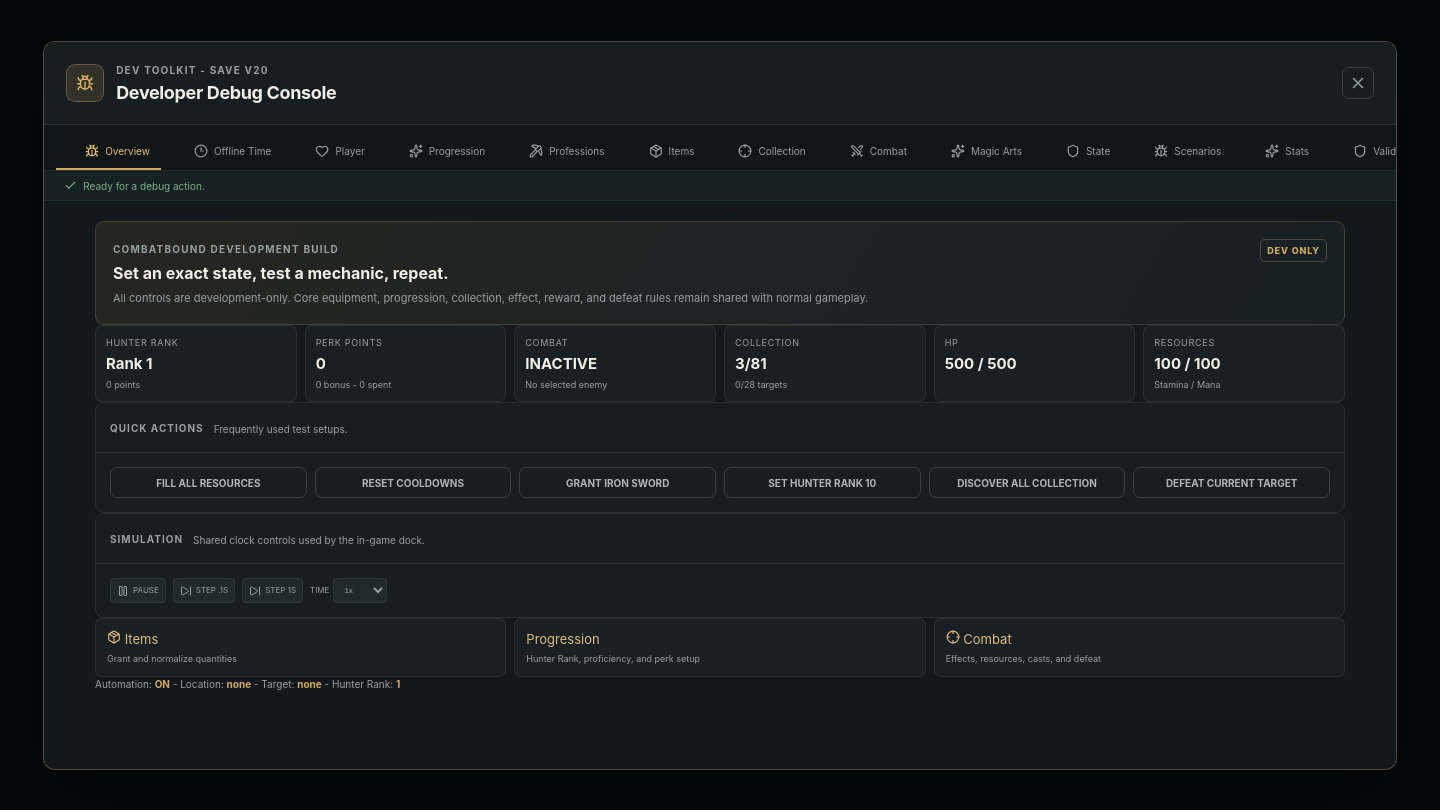
Test: debug progression toolkit › shows Hunter Rank, independent perk points, and direct Proficiency controls
Click the button "Progression": (438, 152) [380,133,496,170]
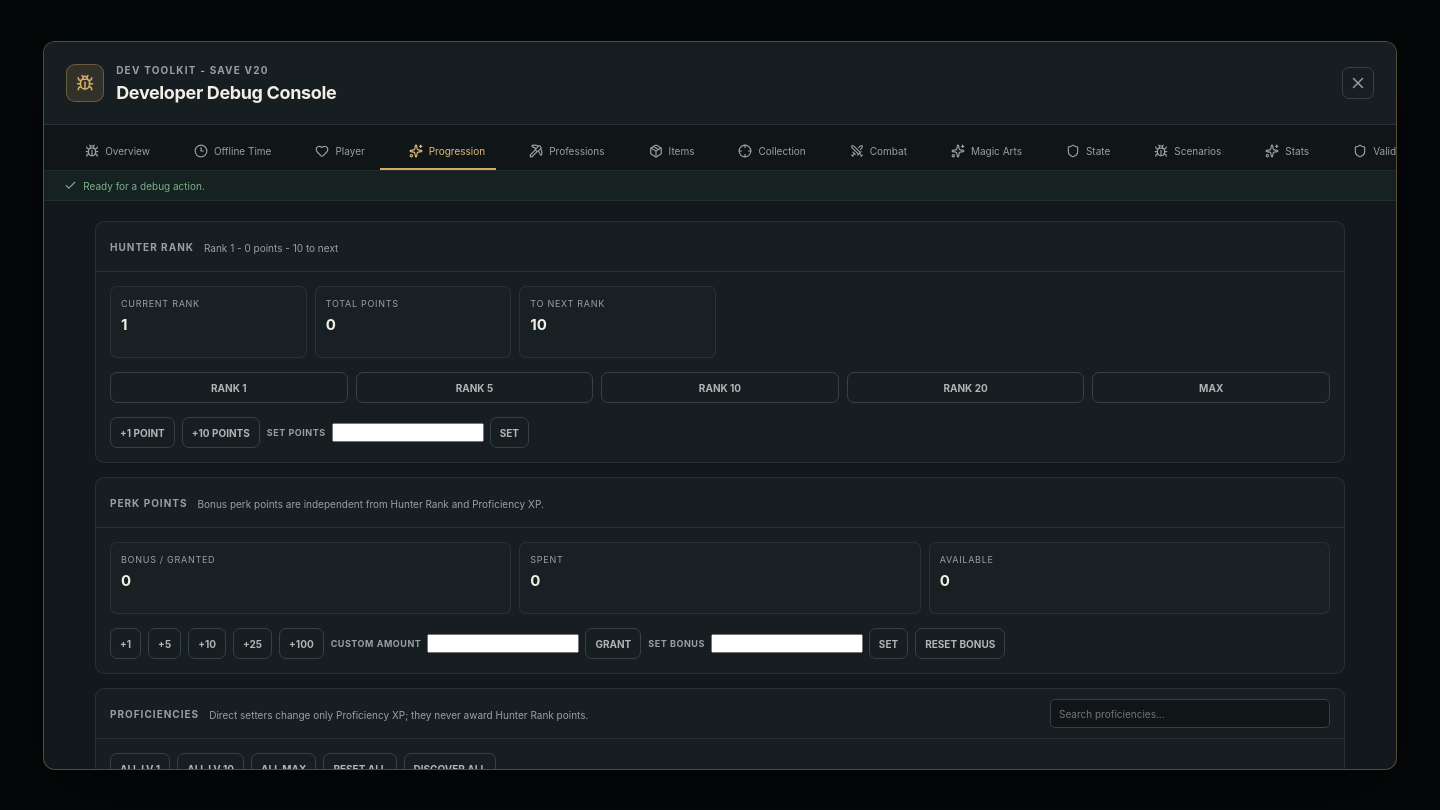
Result: the text "Perk Points" is shown at [110,496,188,510]
Result: the text "Proficiencies" is shown at [110,707,199,721]
Result: the text "Bonus / Granted" is shown at [121,554,215,565]
